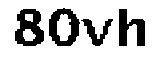0: (46, 5, 80, 50)
8: (12, 6, 44, 49)
h: (117, 5, 147, 49)
v: (80, 15, 114, 48)
